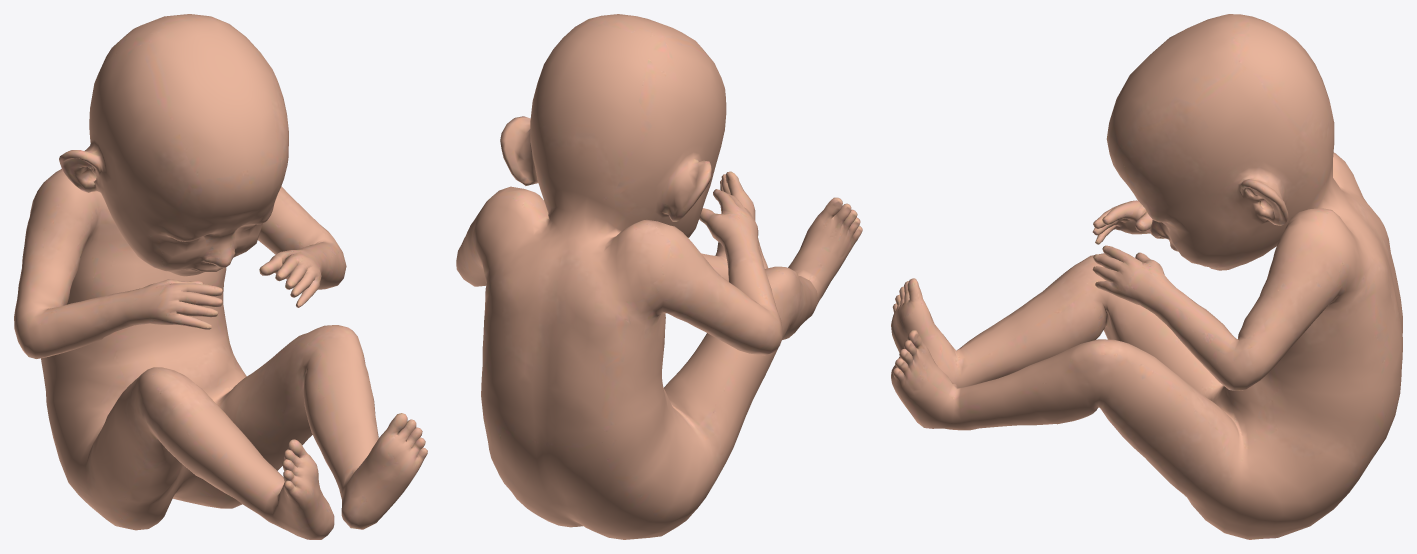
3 renders of one model, left to right at view 1: azimuth 30°, elevation 25°; view 2: azimuth 150°, elevation 25°; view 3: azimuth 270°, elevation 25°, orthographic.
Visible parts, largest first — view 1: Baby; view 2: Baby; view 3: Baby.
Part boxes in pixels (bbox=[...]): Baby: bbox=[14, 14, 427, 539]; Baby: bbox=[456, 14, 862, 539]; Baby: bbox=[891, 14, 1402, 539].
Bounding box in the file's own units: 0.2477 × 0.3674 × 0.3456.
1 material, 1 textured.
